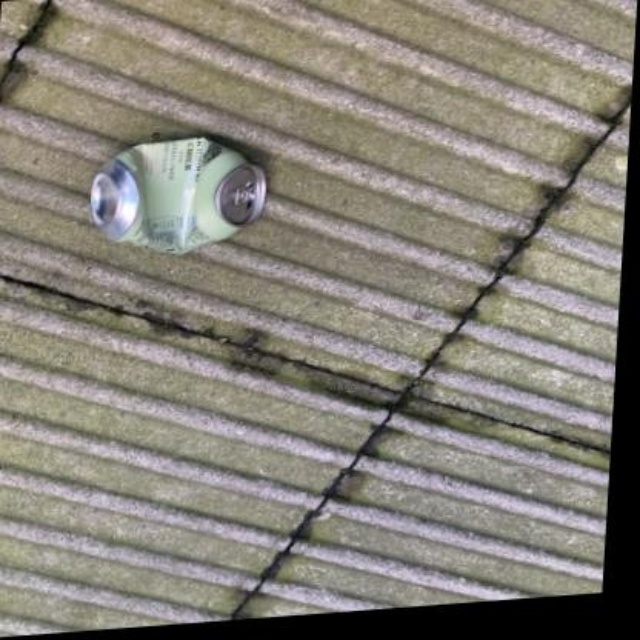trash: (91, 137, 265, 252)
